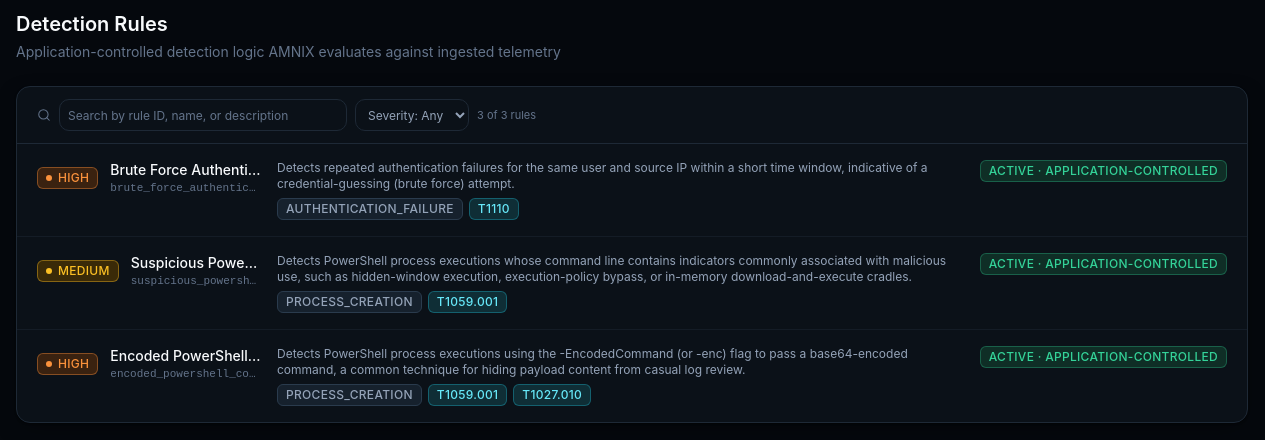
Test: RuleExplorerPage › filters rules by real search text (rule ID, name, or description) -- entirely client-side
Type "encoded" into the field named "search rules".
click(203, 115); type("encoded")  # box x1=59 y1=99 x2=347 y2=131
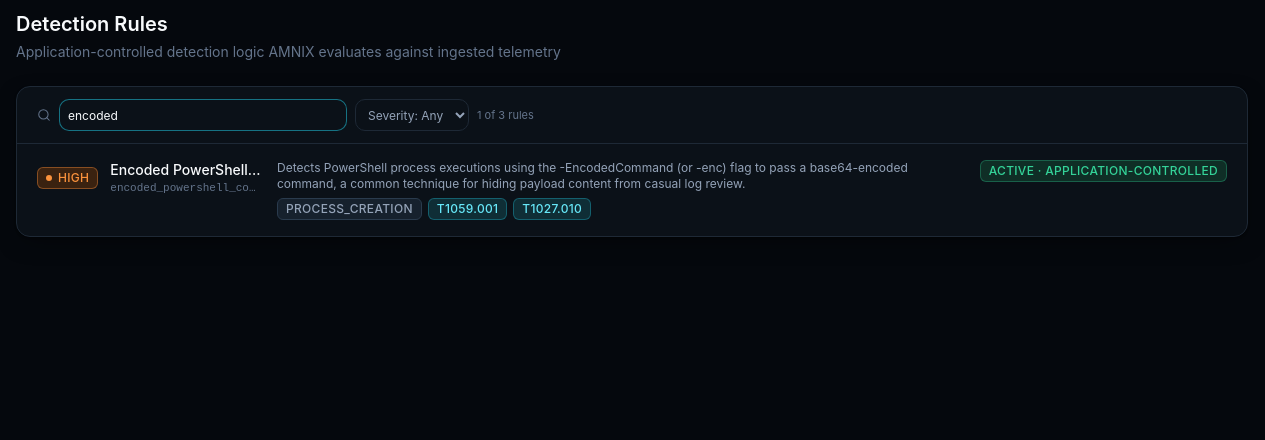
Check: the text "Encoded PowerShell Command" is shown, box x1=110 y1=160 x2=261 y2=180
Check: the link "Brute Force Authentication" is gone
